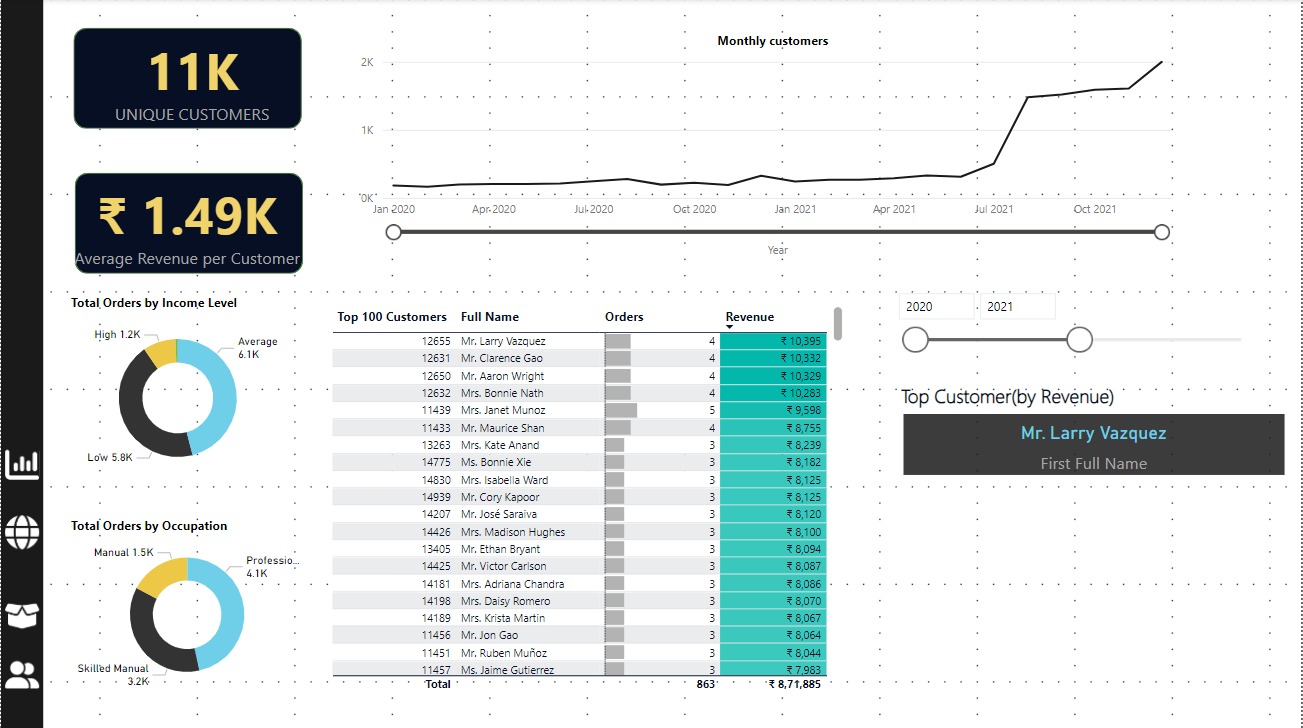

This screenshot's page, from the dashboard's own definition file:
{"tool":"powerbi","page":{"name":"Customer Detail","canvas":[1280,720],"ordinal":1},"visuals":[{"type":"shape","box":[0,0,41.6,721.5],"z":0},{"type":"actionButton","box":[0,425.5,41.6,66],"z":0,"group":"g1"},{"type":"shape","box":[71.1,28.4,224.7,99.6],"z":1000},{"type":"actionButton","box":[0,491.5,41.6,66],"z":1000,"group":"g1"},{"type":"actionButton","box":[0,574.7,41.6,66],"z":2000,"group":"g1"},{"type":"shape","box":[72.5,170.7,224.7,99.6],"z":2000},{"type":"card","fields":{"Values":["Measure Table.Average Revenue per Customer"]},"box":[64,143.6,238.9,153.6],"z":3000},{"type":"actionButton","box":[0,632.2,41.6,66],"z":3000,"group":"g1"},{"type":"card","fields":{"Values":["Measure Table.Total Customers"]},"box":[72.5,0,231.8,159.3],"z":4000},{"type":"lineChart","title":"Monthly customers","fields":{"Y":["Measure Table.Total Customers"],"Category":["Calendar Lookup.Date.Variation.Date Hierarchy.Year","Calendar Lookup.Date.Variation.Date Hierarchy.Quarter","Calendar Lookup.Date.Variation.Date Hierarchy.Month"]},"box":[349.7,31.8,820.5,223.8],"z":5000},{"type":"donutChart","fields":{"Category":["Customer Lookup.Income Level"],"Y":["Measure Table.Total Orders"]},"box":[64,290.1,220.4,189.2],"z":6000},{"type":"donutChart","fields":{"Y":["Measure Table.Total Orders"],"Category":["Customer Lookup.Occupation"]},"box":[64,509.2,238.9,177.8],"z":7000},{"type":"tableEx","fields":{"Values":["Sales Data.CustomerKey","Customer Lookup.Full Name","Measure Table.Total Orders","Measure Table.Total Revenue"]},"box":[320,297.2,513.4,389.7],"z":8000},{"type":"card","fields":{"Values":["Customer Lookup.Full Name"]},"box":[889,408.4,375.4,59.9],"z":9000},{"type":"textbox","box":[880.7,372.9,248.9,71.1],"z":10000},{"type":"slicer","fields":{"Values":["Calendar Lookup.Date.Variation.Date Hierarchy.Year"]},"box":[871.9,278.8,373,81.9],"z":11000},{"type":"group","id":"g1","title":"Navigation buttons","box":[0,425.5,41.6,272.7],"z":12000}]}

Visuals, with their boxes on the page's 1280x720 design canvas (x1, y1, x2, y2). These are canvas units, not pixel positions in the 1303x728 screenshot, which may show the page scaled, cropped or inside an application window:
shape: rect(0, 0, 42, 722)
actionButton: rect(0, 426, 42, 492)
shape: rect(71, 28, 296, 128)
actionButton: rect(0, 492, 42, 558)
actionButton: rect(0, 575, 42, 641)
shape: rect(72, 171, 297, 270)
card - Measure Table.Average Revenue per Customer: rect(64, 144, 303, 297)
actionButton: rect(0, 632, 42, 698)
card - Measure Table.Total Customers: rect(72, 0, 304, 159)
"Monthly customers" lineChart: rect(350, 32, 1170, 256)
donutChart - Customer Lookup.Income Level x Measure Table.Total Orders: rect(64, 290, 284, 479)
donutChart - Measure Table.Total Orders x Customer Lookup.Occupation: rect(64, 509, 303, 687)
tableEx - Sales Data.CustomerKey x Customer Lookup.Full Name: rect(320, 297, 833, 687)
card - Customer Lookup.Full Name: rect(889, 408, 1264, 468)
textbox: rect(881, 373, 1130, 444)
slicer - Calendar Lookup.Date.Variation.Date Hierarchy.Year: rect(872, 279, 1245, 361)
"Navigation buttons" group: rect(0, 426, 42, 698)
